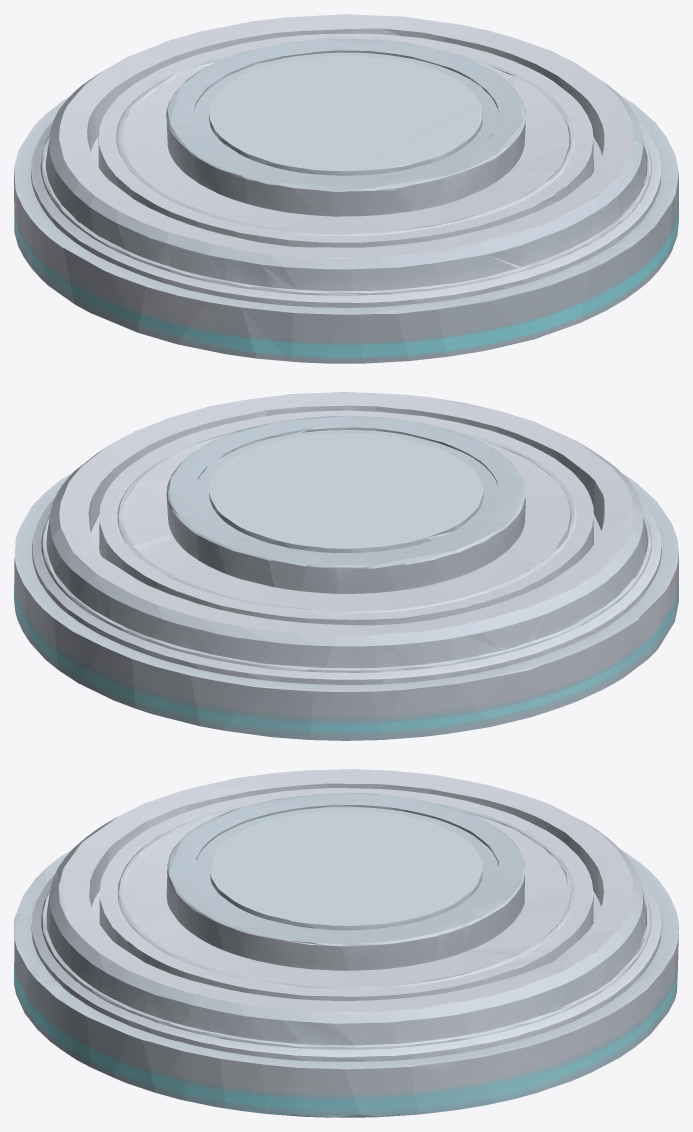
The model's file is hologram-podium.glb.
The picture shows the model from 3 angles, top to bottom: view 1: azimuth 30°, elevation 25°; view 2: azimuth 150°, elevation 25°; view 3: azimuth 270°, elevation 25°; orthographic projection.
Size of the model in its own units: 1.9 by 0.3477 by 1.9.
1 material, 1 textured.
